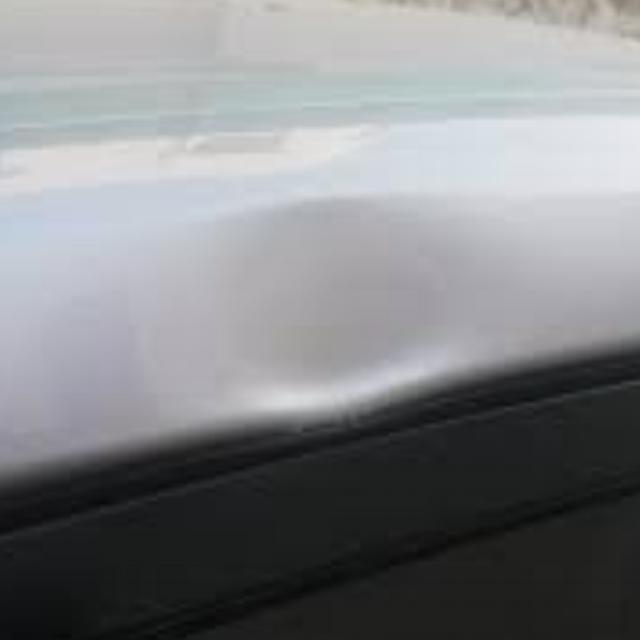dents: (216, 166, 480, 442)
